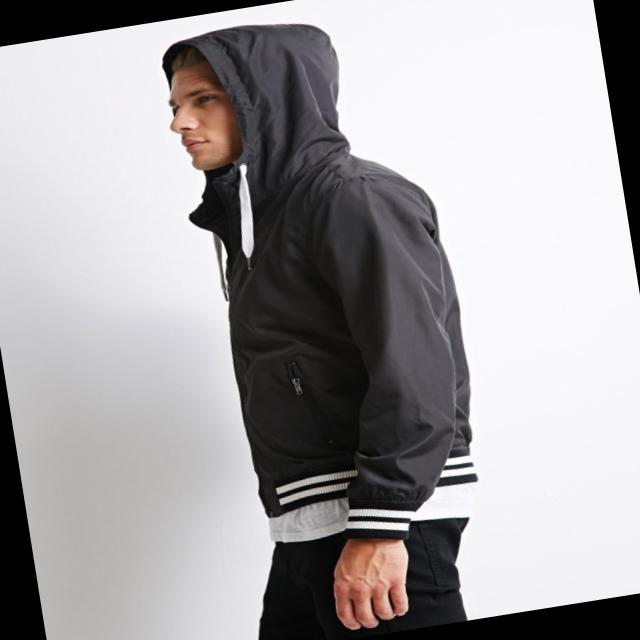Jacket: (137, 0, 502, 540)
